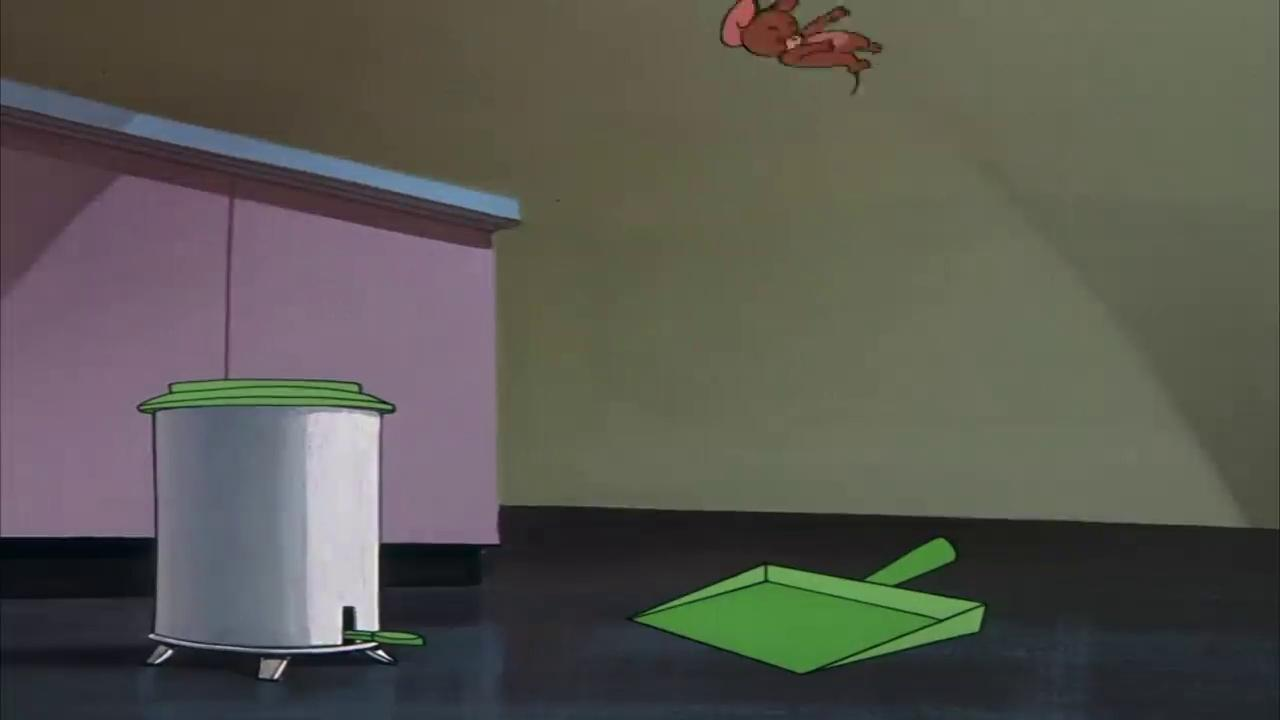Jerry: (717, 0, 884, 98)
